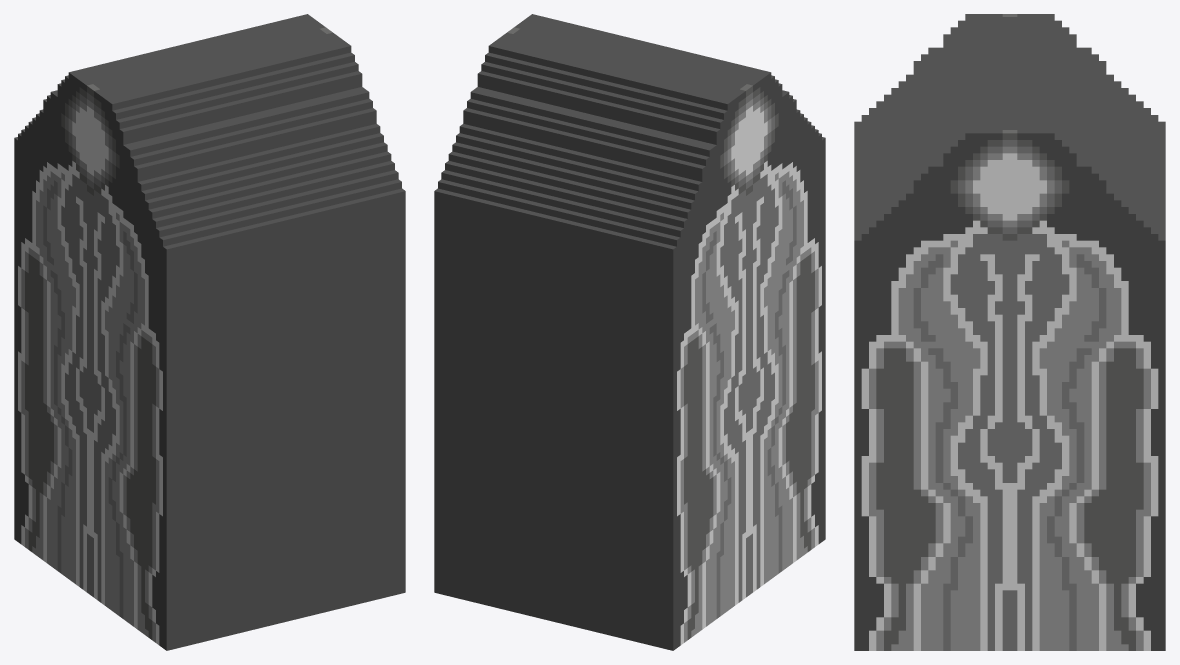
Rendered from 128 ( от двери плита ).obj.
The picture shows the model from 3 angles, left to right: view 1: azimuth 30°, elevation 25°; view 2: azimuth 150°, elevation 25°; view 3: azimuth 270°, elevation 25°; orthographic projection. The views are drawn at different scales.
Bounding box in the file's own units: 3.8 × 7.7 × 4.2.
Materials: 1 (1 with a texture image).
